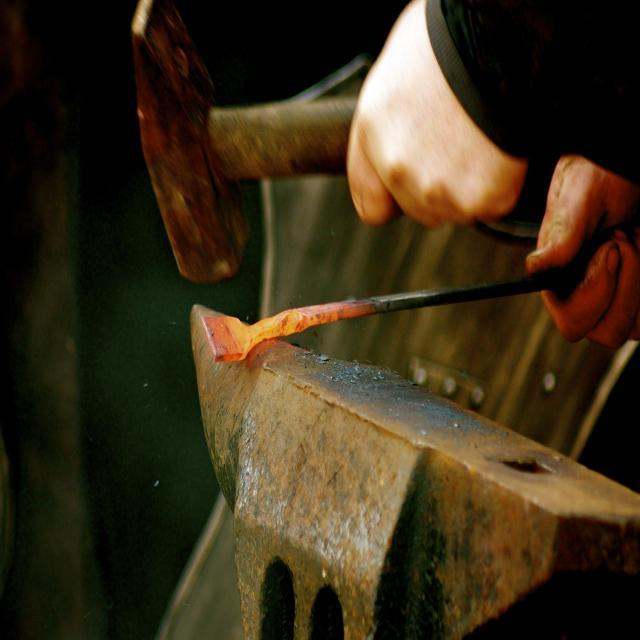hammer: (128, 0, 388, 296)
